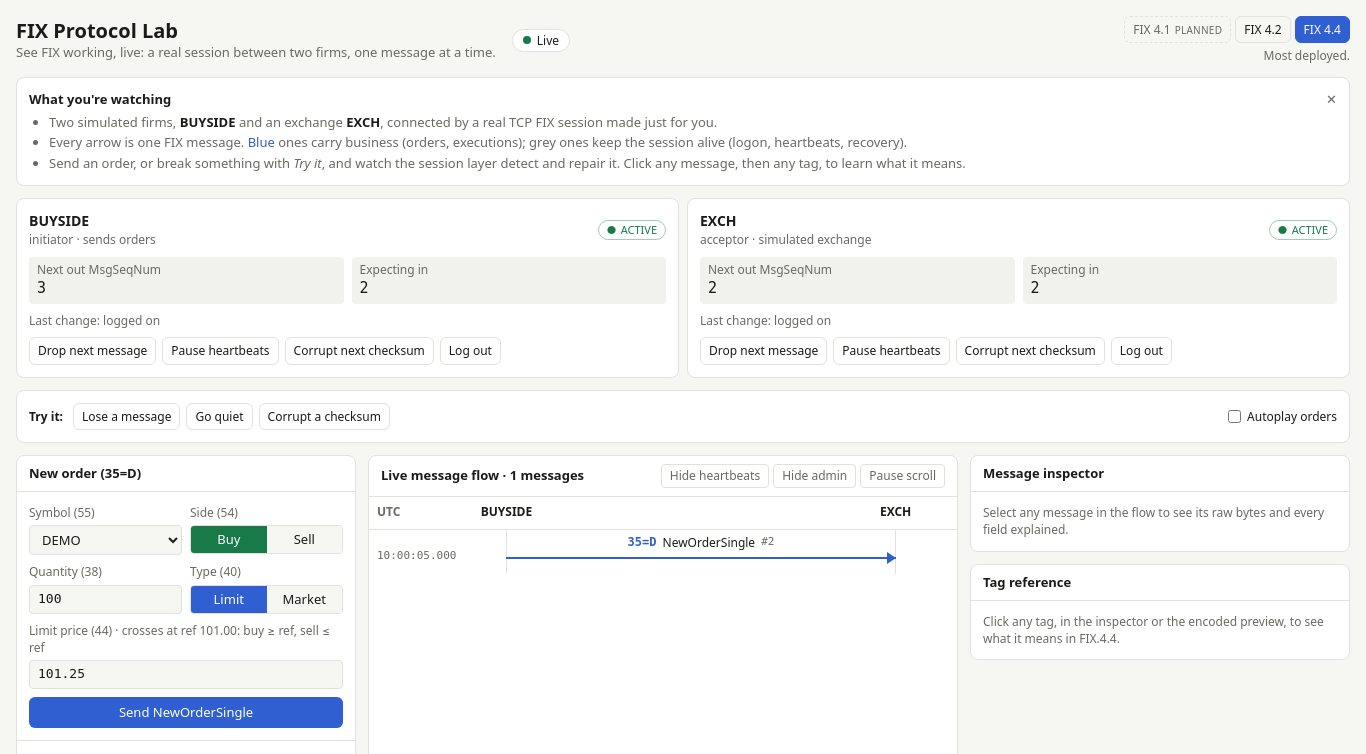
it: inspector and dictionary › inspector shows raw and parsed fields
Click the button with aria-label "NewOrderSingle (35=D)": (663,552) [369,530,957,574]
(page scrolled)
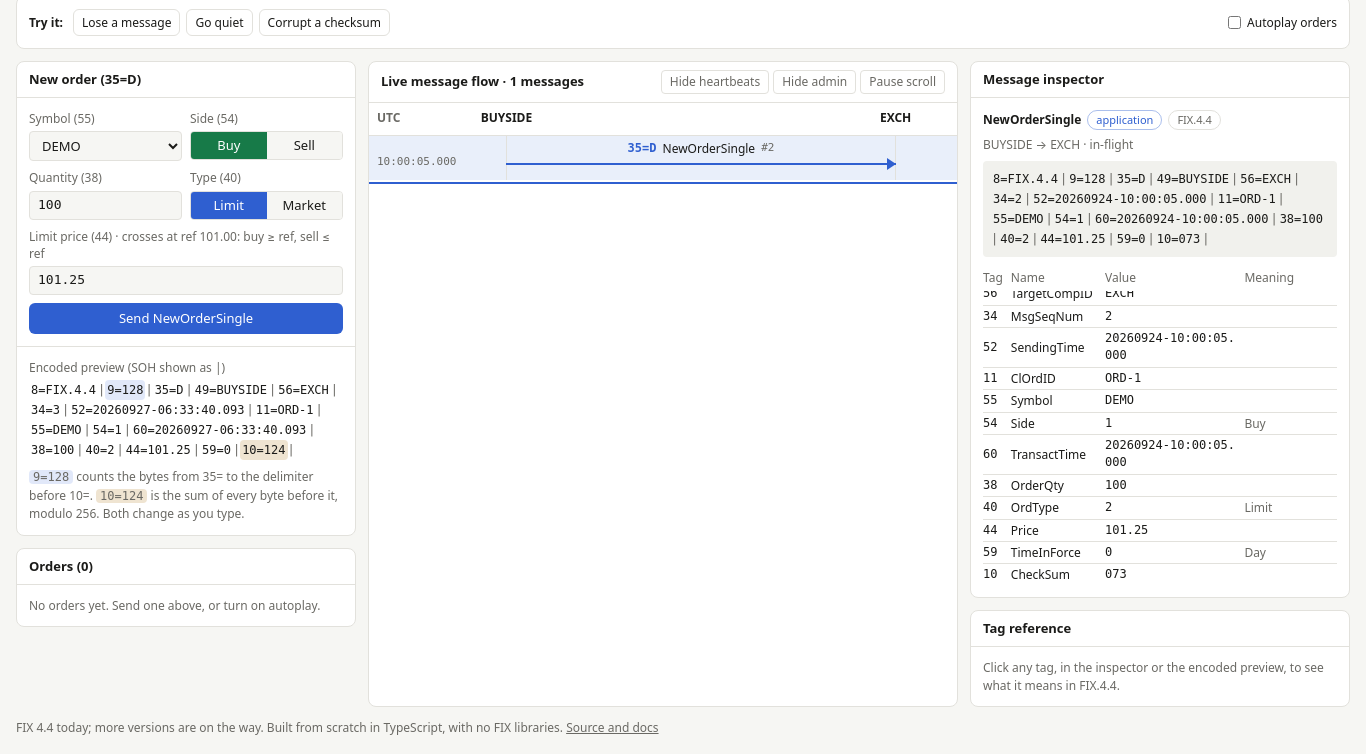
Expected: the element with test id "raw" shows "8=FIX.4.4|9=128|35=D|49=BUYSIDE|56=EXCH|34=2|52=20260924-10:00:05.000|11=ORD-1|55=DEMO|54=1|60=20260924-10:00:05.000|38=100|40=2|44=101.25|59=0|10=073|", [991,169,1060,189]
Expected: the text "OrdType" is shown, [1011,497,1105,519]
Expected: the text "Limit" is shown, [1244,497,1337,519]
